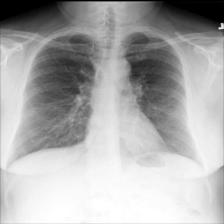normal: (4, 24, 206, 172)
